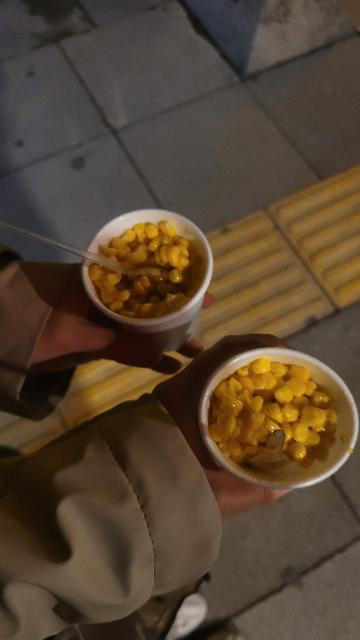Organik: (228, 362, 333, 466), (105, 222, 187, 313)
Plastik: (0, 206, 124, 274)
